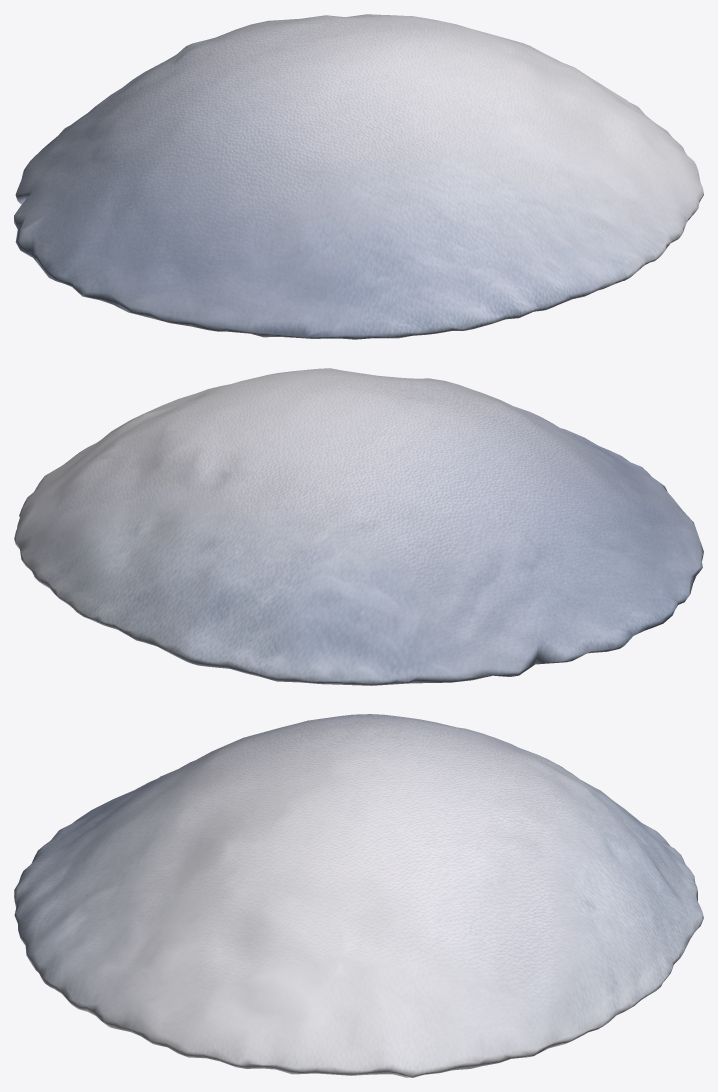
File: PR_SnowSoft_Low.fbx
The picture shows the model from 3 angles, top to bottom: view 1: azimuth 30°, elevation 25°; view 2: azimuth 150°, elevation 25°; view 3: azimuth 270°, elevation 25°; orthographic projection. The views are drawn at different scales.
Parts seen in each view (by area): view 1: texture_mapping; view 2: texture_mapping; view 3: texture_mapping.
Boxes of the visible parts, x1,y1,x2,y2 form: texture_mapping: (14,14,703,339); texture_mapping: (14,368,703,685); texture_mapping: (14,714,703,1077).
Bounding box in the file's own units: 1 × 0.9225 × 0.2582.
1 material, 1 textured.
